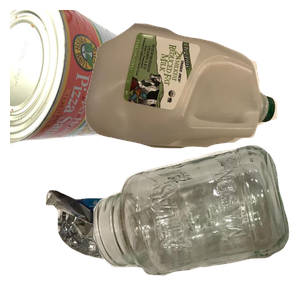glass: (91, 143, 300, 300)
metal: (10, 10, 159, 152)
plastic: (83, 21, 300, 162)
trash: (43, 187, 234, 300)
